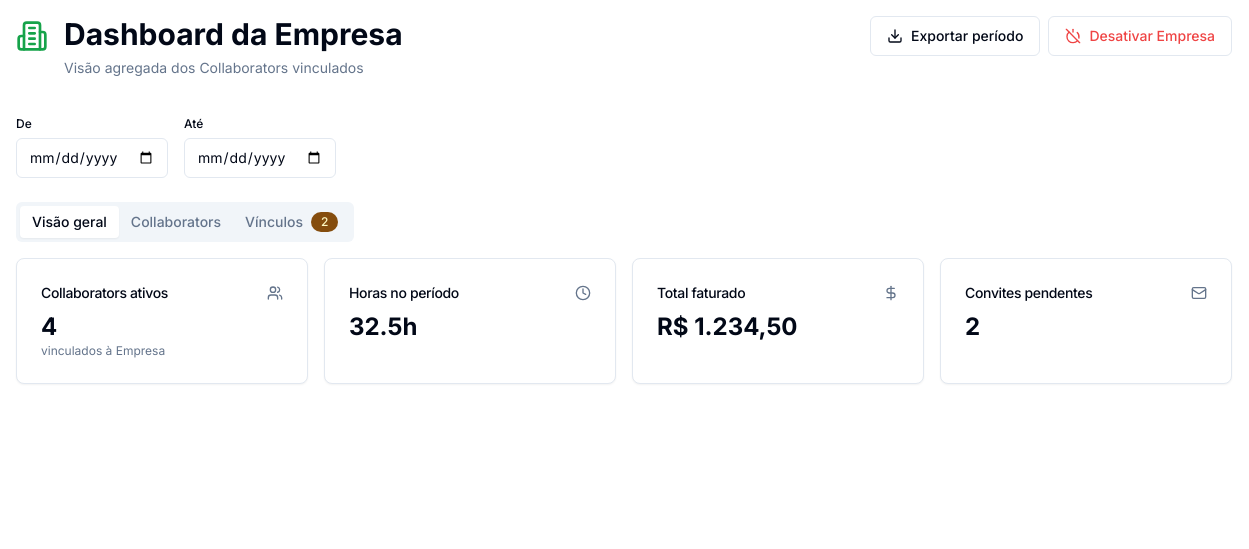
Test: CompanyAdminDashboardPage › Vínculos tab lists Convites Pendentes and Domínios Autorizados, with a revoke action for each
Click the tab "Vínculos 2": {"x": 292, "y": 222} [233,206,350,238]
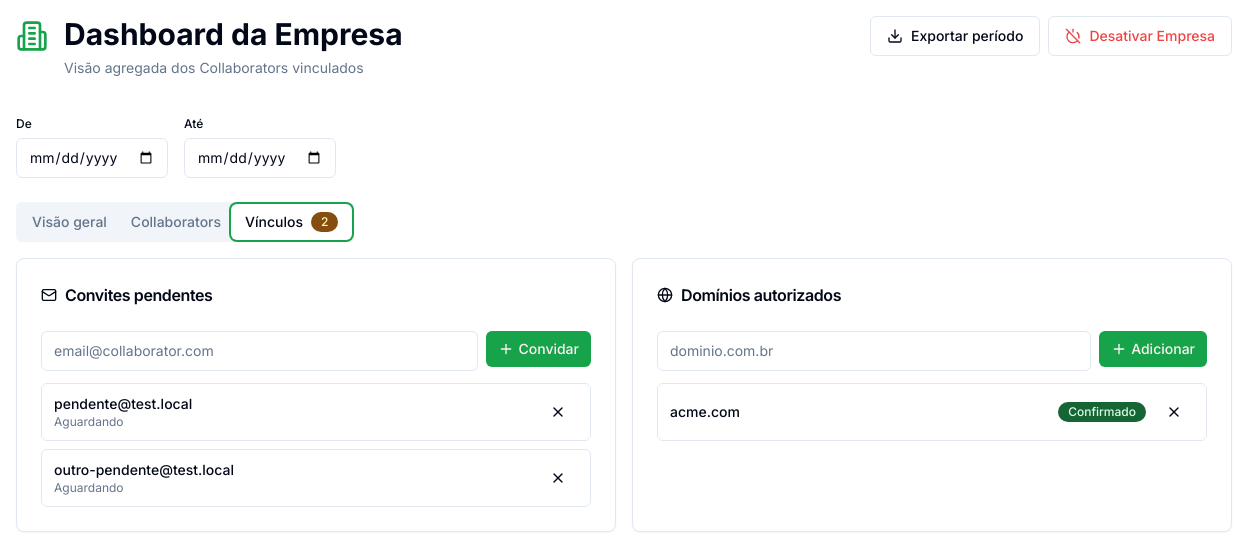
Now the text "pendente@test.local" is shown, box [54,394,192,414]
Now the text "outro-pendente@test.local" is shown, box [54,460,234,480]
Now the text "acme.com" is shown, box [670,402,740,422]
